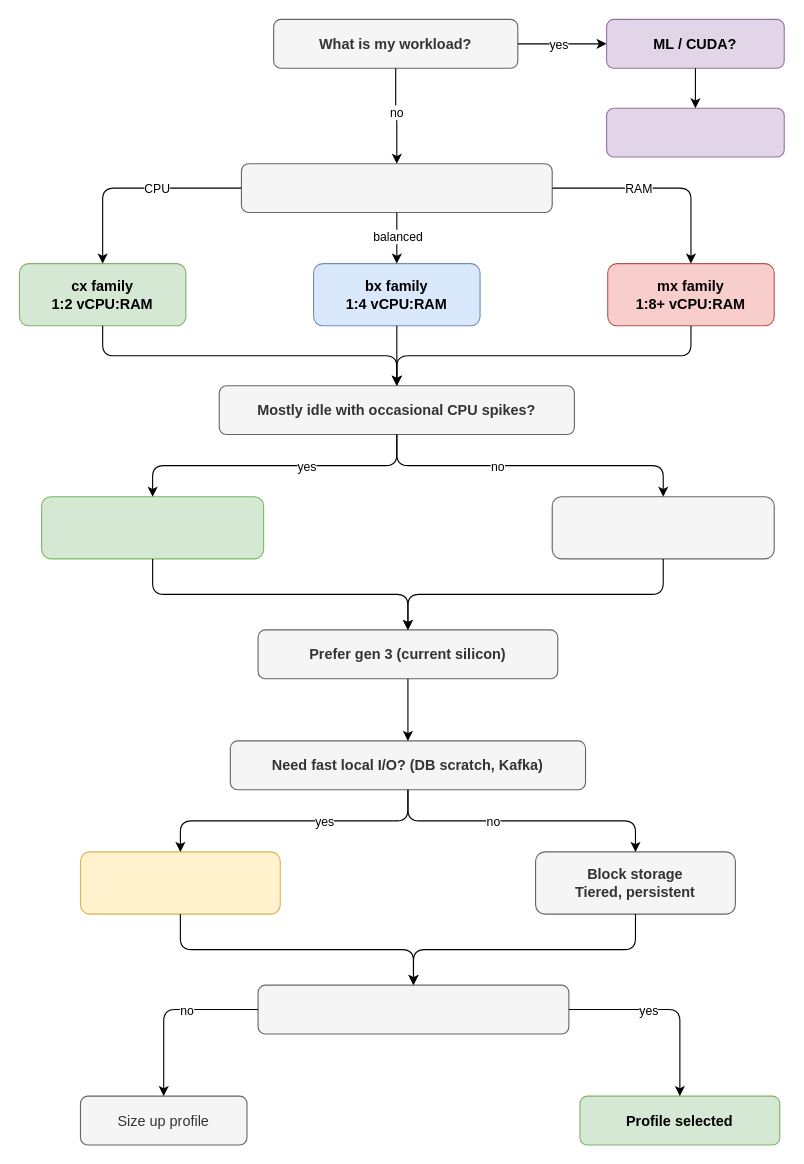
This 804x1164 diagram has some shape labels left out. The centre of each missing label's shape, as x and y in pixels:
Add d suffix NVMe, ephemeral: (179,882)
Add f suffix (burstable) bxf / cxf / mxf: (152,527)
CPU-heavy or RAM-heavy?: (396,188)
gx family: (695,132)
Network bandwidth enough?: (413,1009)
Sustained CPU: (662,527)
